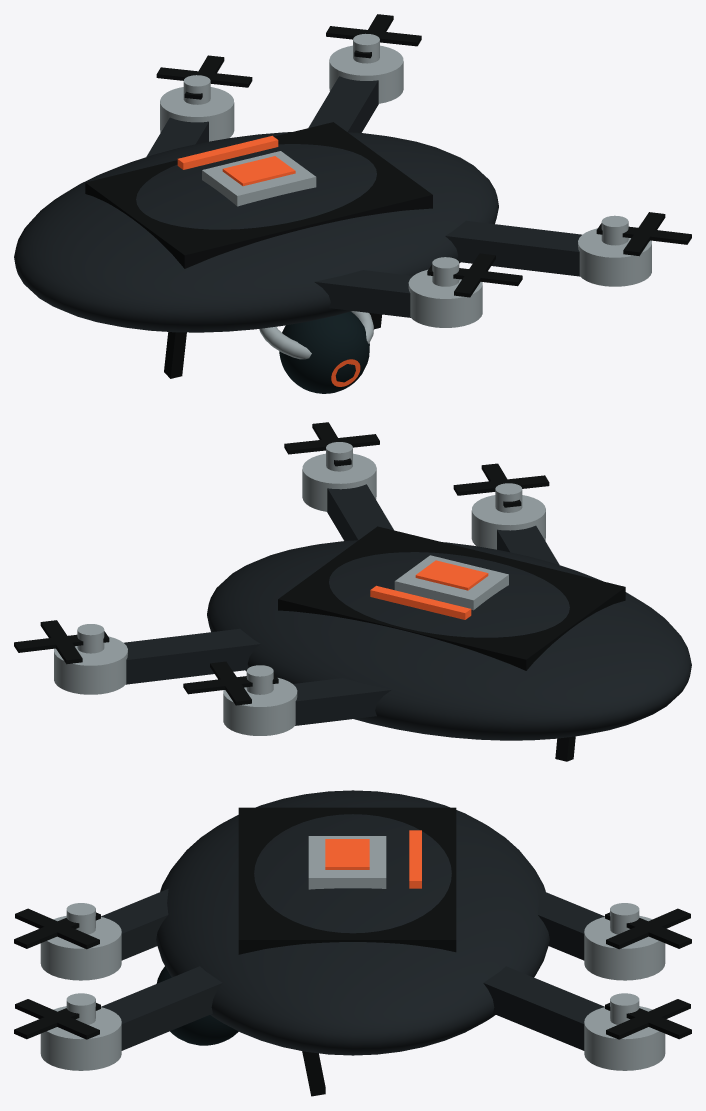
Rendered from drone.glb.
3 views of the same model, one above another, from view 1: azimuth 30°, elevation 25°; view 2: azimuth 150°, elevation 25°; view 3: azimuth 270°, elevation 25° (orthographic). The views are drawn at different scales.
Visible parts, largest first — view 1: AerodynamicShell, MotorHousing (×4), BatteryCompartment, RearRightArm_CarbonArm, OpticalElement, Blade (×6), RearLeftArm_CarbonArm, Hub (×4), FlightCoreHousing, FrontRightArm_CarbonArm, FrontLeftArm_CarbonArm, StatusLight (+3 smaller); view 2: AerodynamicShell, MotorHousing (×4), BatteryCompartment, Blade (×8), FrontRightArm_CarbonArm, FrontLeftArm_CarbonArm, Hub (×4), FlightCoreHousing, RearRightArm_CarbonArm, RearLeftArm_CarbonArm, StatusLight, FlightCoreIndicator; view 3: AerodynamicShell, MotorHousing (×4), BatteryCompartment, Blade (×8), FrontRightArm_CarbonArm, RearRightArm_CarbonArm, Hub (×4), FlightCoreHousing, FrontLeftArm_CarbonArm, RearLeftArm_CarbonArm, OpticalElement, FlightCoreIndicator (+2 smaller).
Boxes of the visible parts, x1,y1,x2,y2 form: AerodynamicShell: (14, 132, 498, 332); MotorHousing (×4): (160, 45, 651, 327); BatteryCompartment: (85, 122, 432, 268); RearRightArm_CarbonArm: (445, 220, 581, 276); OpticalElement: (279, 311, 369, 393); Blade (×6): (156, 26, 691, 297); RearLeftArm_CarbonArm: (314, 270, 412, 317); Hub (×4): (183, 33, 628, 286); FlightCoreHousing: (202, 151, 316, 206); FrontRightArm_CarbonArm: (308, 76, 378, 132); FrontLeftArm_CarbonArm: (146, 117, 208, 156); StatusLight: (177, 135, 278, 169); AerodynamicShell: (207, 540, 691, 740); MotorHousing (×4): (54, 453, 545, 735); BatteryCompartment: (278, 526, 625, 670); Blade (×8): (14, 422, 549, 705); FrontRightArm_CarbonArm: (124, 628, 260, 684); FrontLeftArm_CarbonArm: (293, 678, 391, 725); Hub (×4): (77, 442, 522, 694); FlightCoreHousing: (394, 555, 508, 610); RearRightArm_CarbonArm: (327, 484, 393, 540); RearLeftArm_CarbonArm: (497, 525, 559, 564); StatusLight: (370, 585, 471, 619); FlightCoreIndicator: (415, 560, 488, 590); AerodynamicShell: (156, 790, 549, 1055); MotorHousing (×4): (40, 915, 665, 1070); BatteryCompartment: (238, 807, 456, 954); Blade (×8): (14, 908, 691, 1039); FrontRightArm_CarbonArm: (483, 966, 604, 1050); RearRightArm_CarbonArm: (101, 966, 222, 1050); Hub (×4): (66, 903, 639, 1024); FlightCoreHousing: (308, 836, 386, 889); FrontLeftArm_CarbonArm: (537, 889, 604, 960); RearLeftArm_CarbonArm: (101, 889, 168, 960); OpticalElement: (156, 966, 238, 1045); FlightCoreIndicator: (325, 839, 369, 869).
Size of the model in its own units: 3.51 by 1.13 by 3.68.
